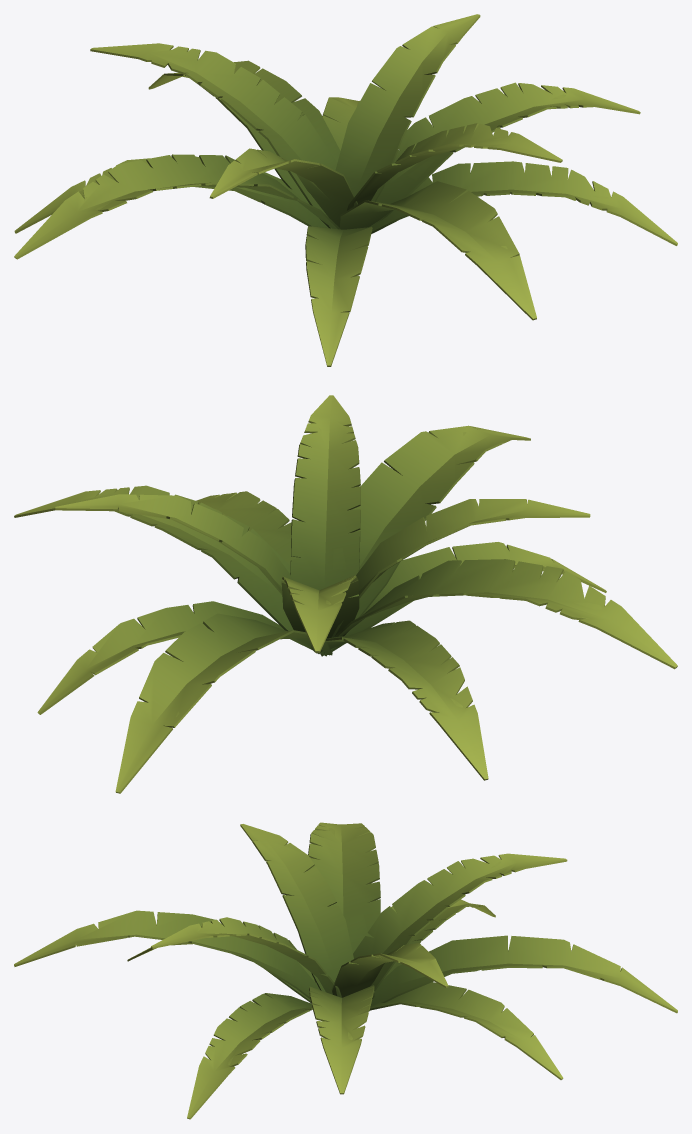
Rendered from Plant_02.fbx.
3 views of the same model, one above another, from view 1: azimuth 30°, elevation 25°; view 2: azimuth 150°, elevation 25°; view 3: azimuth 270°, elevation 25° (orthographic). The views are drawn at different scales.
Visible parts, largest first — view 1: Plant_02_LOD0; view 2: Plant_02_LOD0; view 3: Plant_02_LOD0.
Part boxes in pixels (x1,y1,x2,y2): Plant_02_LOD0: (14, 14, 677, 366); Plant_02_LOD0: (14, 395, 677, 793); Plant_02_LOD0: (14, 822, 677, 1119).
Size of what is drawn, in the model's own units: 1.4 by 0.3086 by 1.5.
